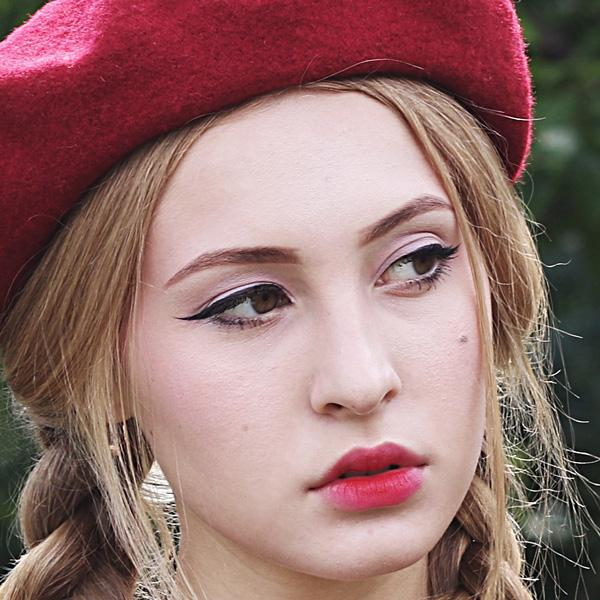Eyes: (194, 269, 304, 342), (367, 225, 455, 305)
